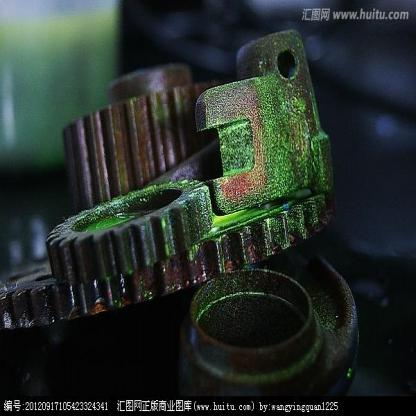FOD: (46, 178, 215, 292)
